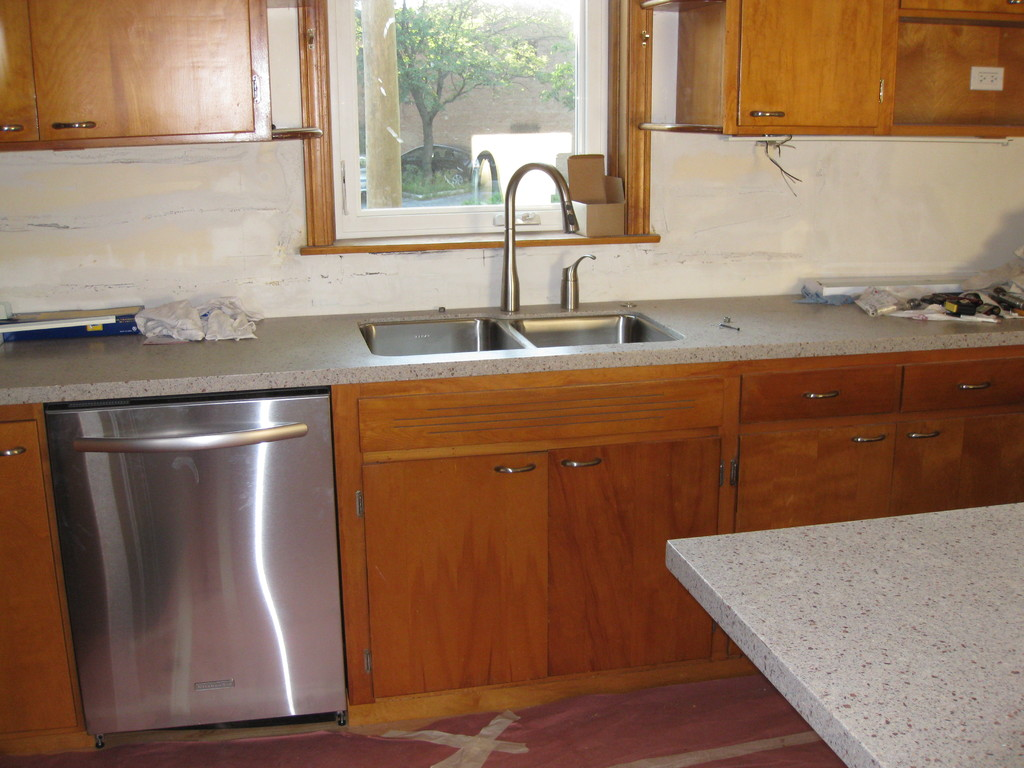cabinet door: (363, 461, 546, 677), (552, 451, 705, 649), (33, 19, 257, 133), (0, 426, 61, 711), (743, 18, 877, 126), (751, 426, 895, 511), (894, 417, 1023, 507), (744, 379, 894, 417), (909, 373, 1022, 415), (0, 18, 36, 135)
handle: (79, 425, 306, 455), (47, 115, 104, 138), (557, 455, 605, 480), (745, 96, 786, 125), (494, 458, 539, 481), (797, 385, 839, 404), (904, 425, 942, 446), (958, 375, 1000, 394), (850, 429, 892, 446), (2, 435, 26, 463), (0, 115, 29, 133)
